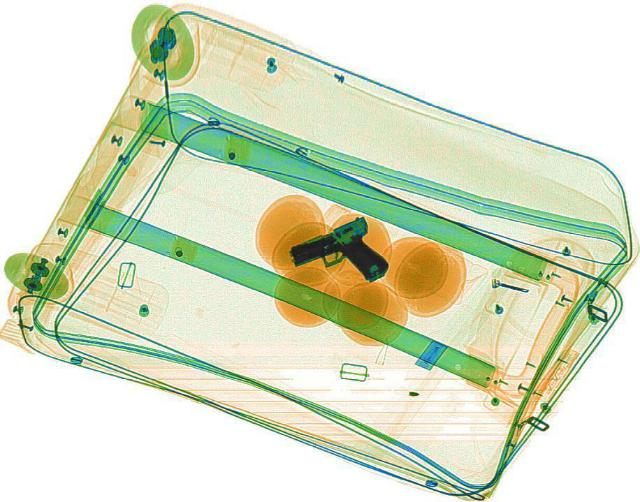Gun: (278, 212, 402, 298)
